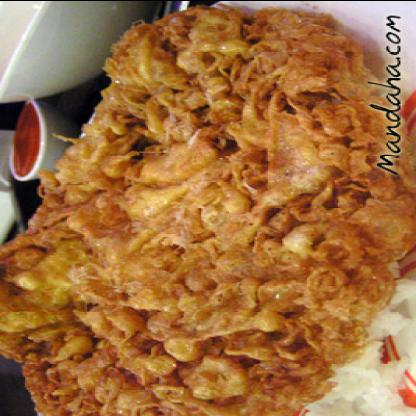Omelette: (4, 1, 415, 415)
